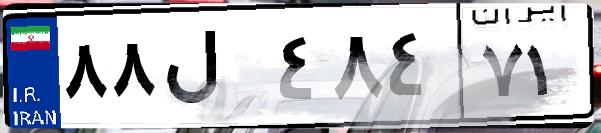1: (525, 38, 570, 115)
4: (270, 28, 330, 110), (385, 28, 445, 110)
7: (475, 38, 525, 113)
8: (330, 28, 385, 110), (57, 26, 110, 100), (110, 28, 158, 98)
ل: (158, 20, 270, 120)
